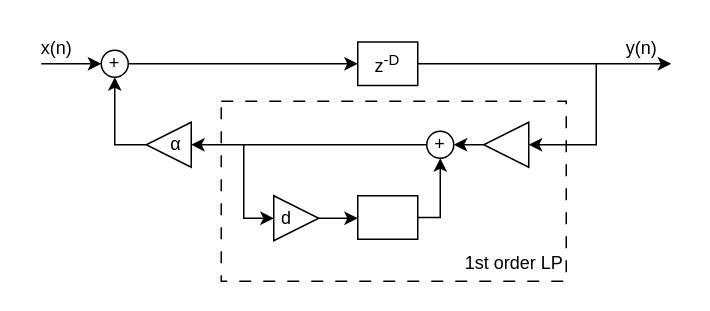
This 710x311 diagram has some shape labels left out. The shapes that lost their labels are listed below. From the top down, each one's box as (x1, y1, x2, y2) in pixels, then its label:
(482, 121, 529, 167): 1-d
(356, 194, 418, 239): z -1
